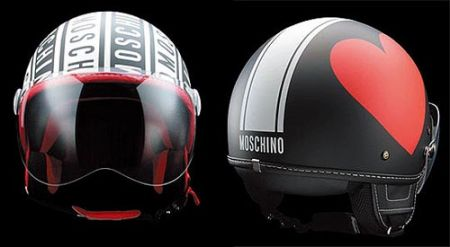helmet: (241, 25, 428, 217), (18, 21, 200, 178)
